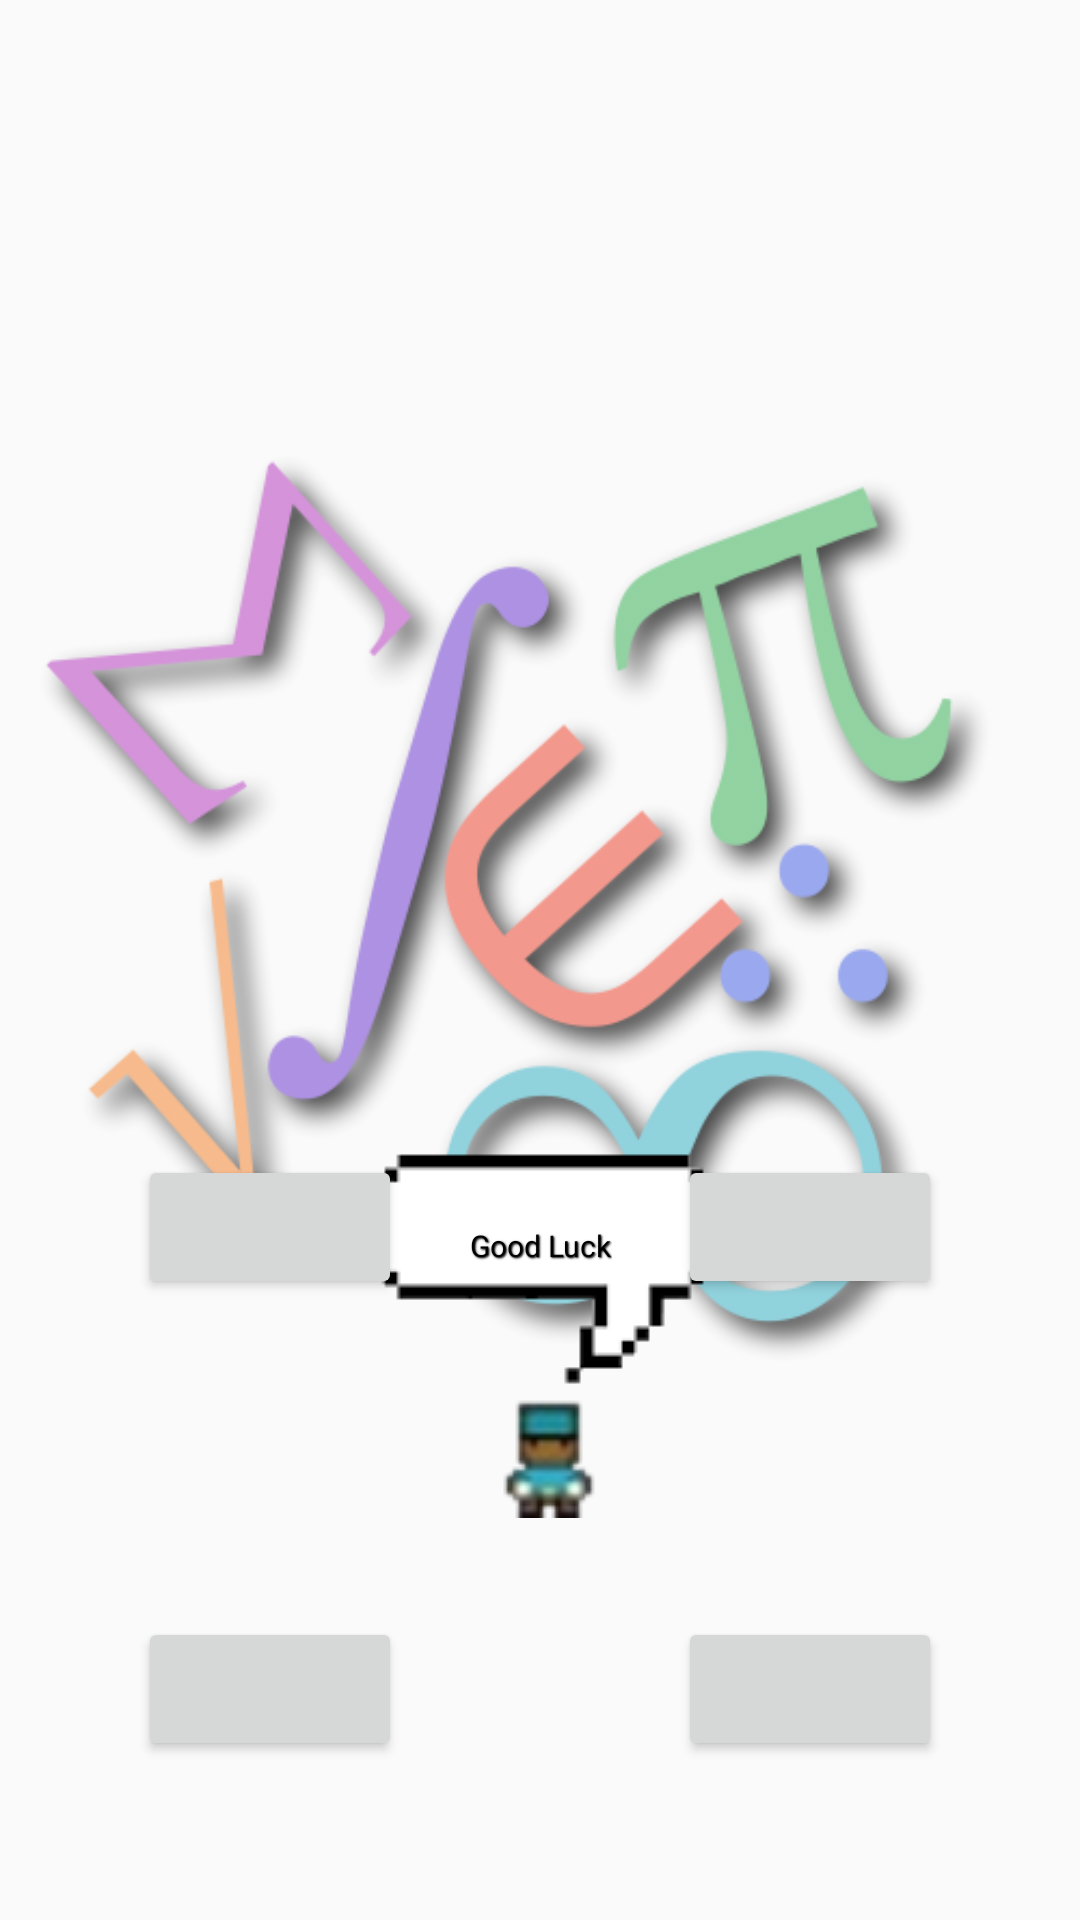

Icon bounding boxes for this 1080w x 1920h phone screenshot, format (x1, y1, x2, y2):
labtechstationary: (504, 1401, 594, 1518)
